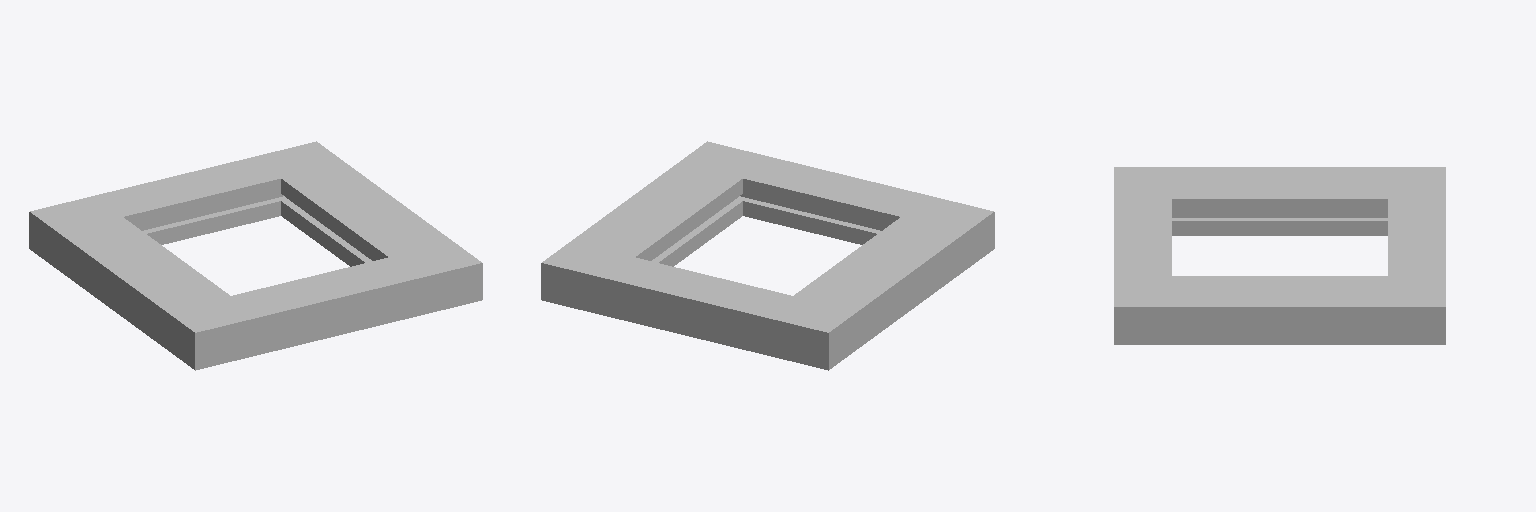
File: window.obj
The picture shows the model from 3 angles: view 1: azimuth 30°, elevation 25°; view 2: azimuth 150°, elevation 25°; view 3: azimuth 270°, elevation 25°; orthographic projection.
Parts seen in each view (by area): view 1: window; view 2: window; view 3: window.
Part boxes in pixels (x1,y1,x2,y2): window: (29, 141, 482, 370); window: (541, 141, 994, 370); window: (1114, 167, 1445, 344).
Bounding box in the file's own units: 40 × 5 × 40.